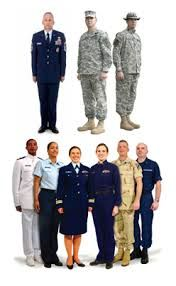uniform: (77, 28, 111, 123), (113, 27, 143, 123)
